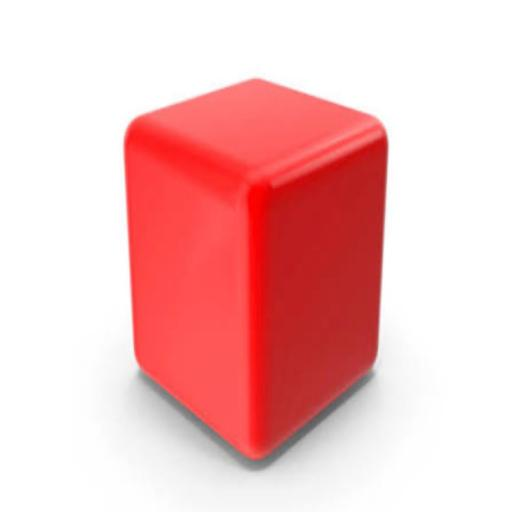red_block: (80, 46, 495, 512)
